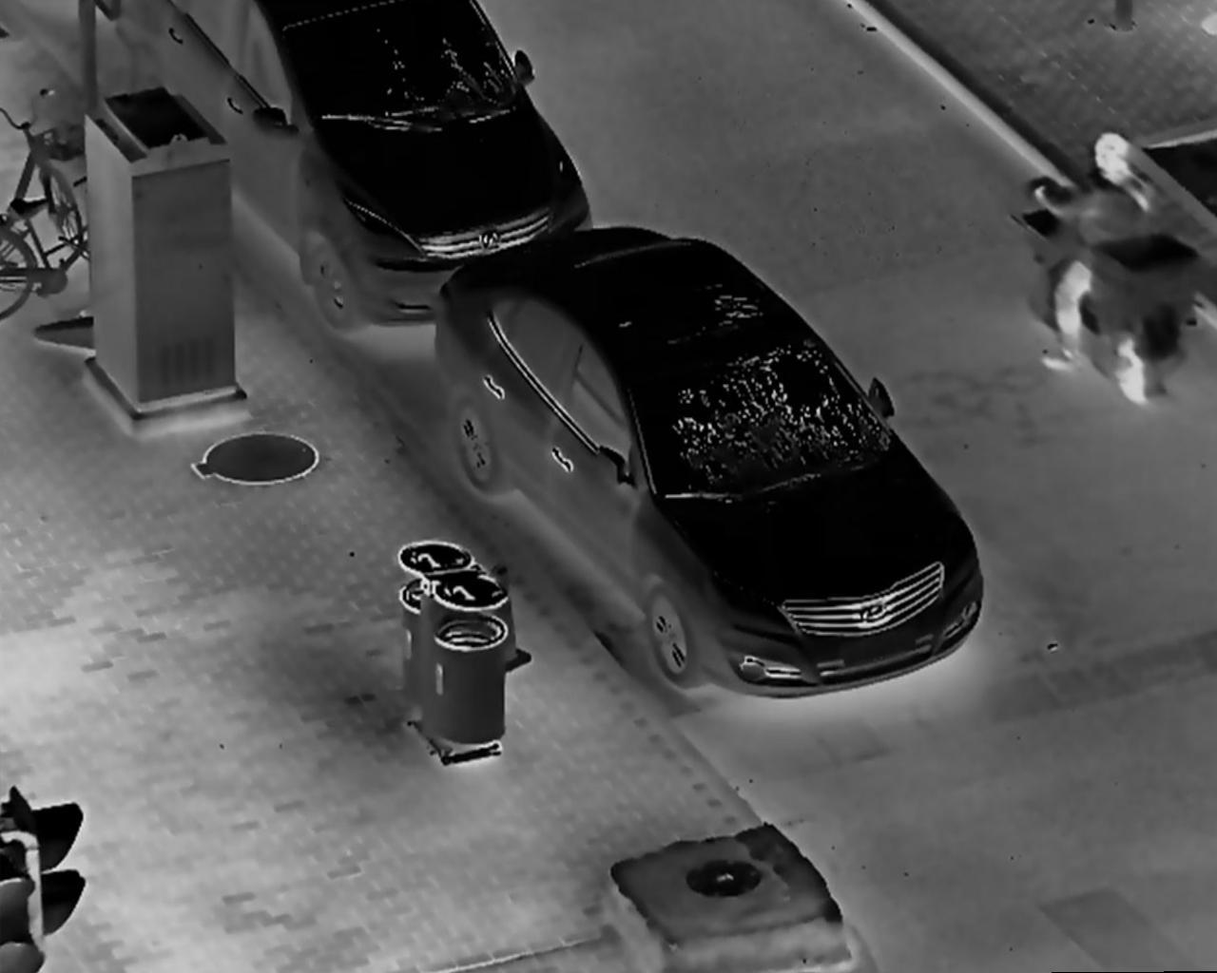person: (1029, 134, 1170, 360)
